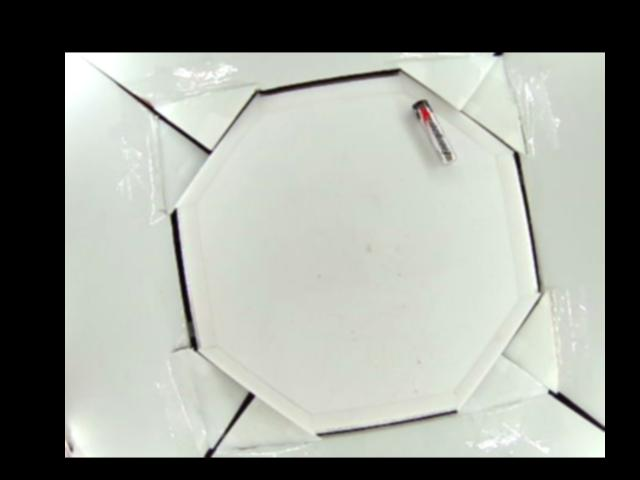Battery: (412, 99, 456, 166)
